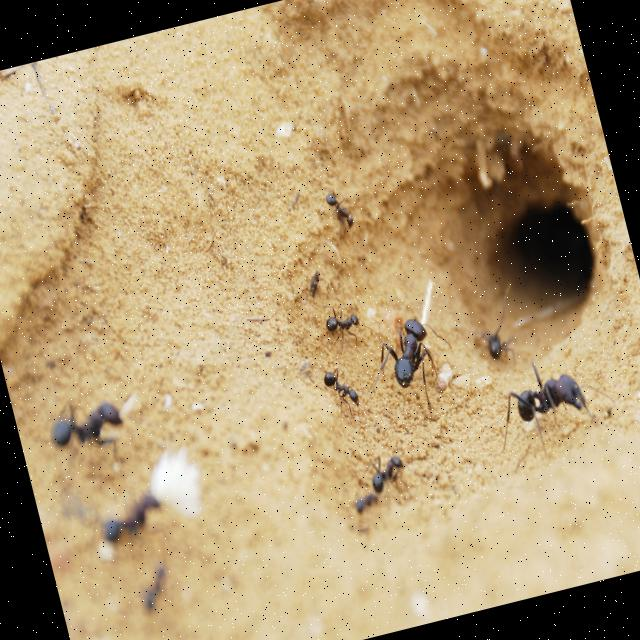Minor: (316, 294, 370, 355), (318, 362, 364, 424), (320, 183, 360, 236)
Soldier: (481, 345, 622, 465), (369, 307, 466, 423)
